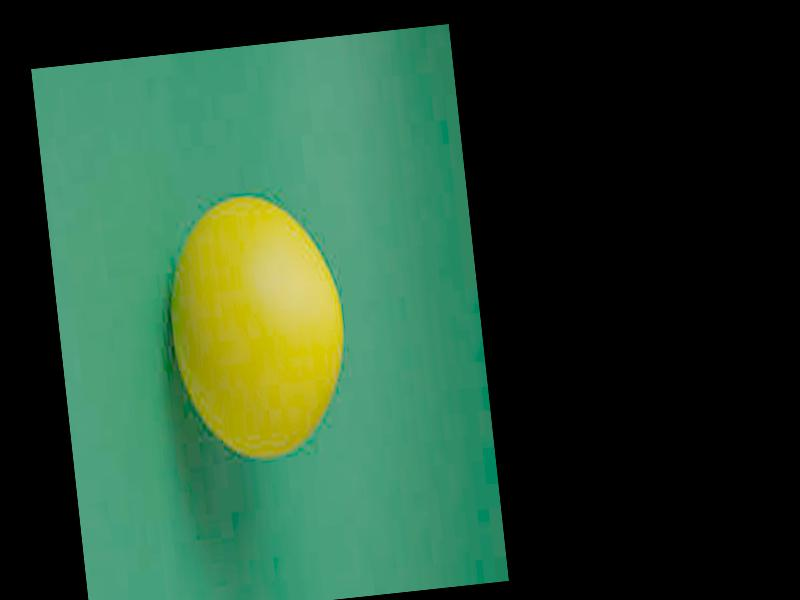Eggs: (157, 184, 356, 458)
